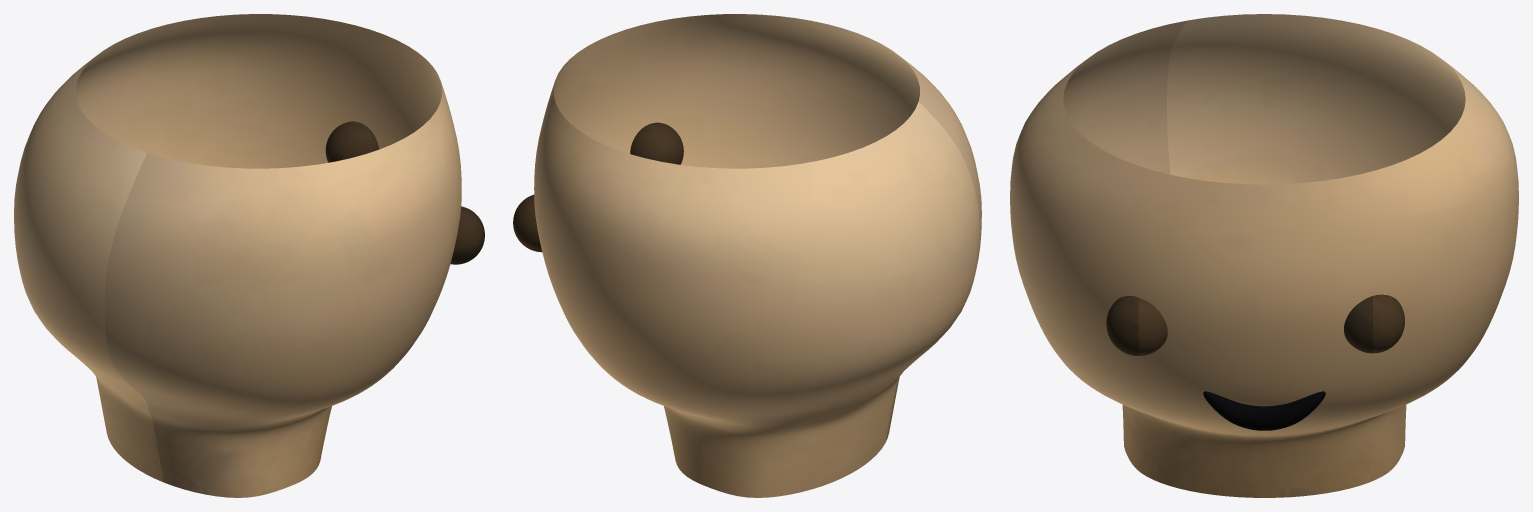
The model's file is Playmobil_Shapekey2.fbx.
3 views of the same model, side by side, from view 1: azimuth 30°, elevation 25°; view 2: azimuth 150°, elevation 25°; view 3: azimuth 270°, elevation 25° (orthographic). The views are drawn at different scales.
Visible parts, largest first — view 1: Head; view 2: Head; view 3: Head.
Boxes of the visible parts, x1=… form: Head: x1=14, y1=14, x2=484, y2=497; Head: x1=513, y1=14, x2=981, y2=497; Head: x1=1010, y1=14, x2=1518, y2=497.
Bounding box in the file's own units: 78.45 × 66.98 × 81.96.
